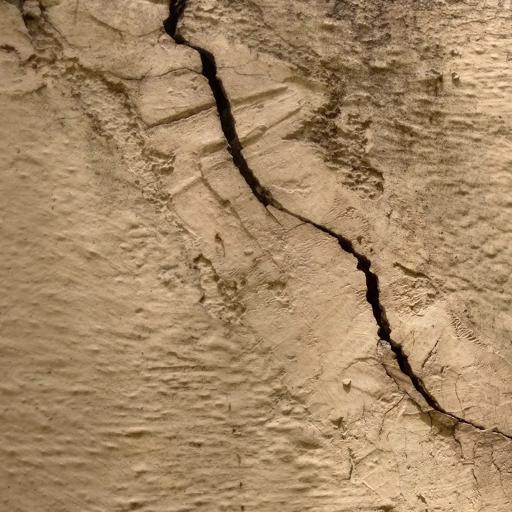major_crack: (150, 0, 512, 450)
